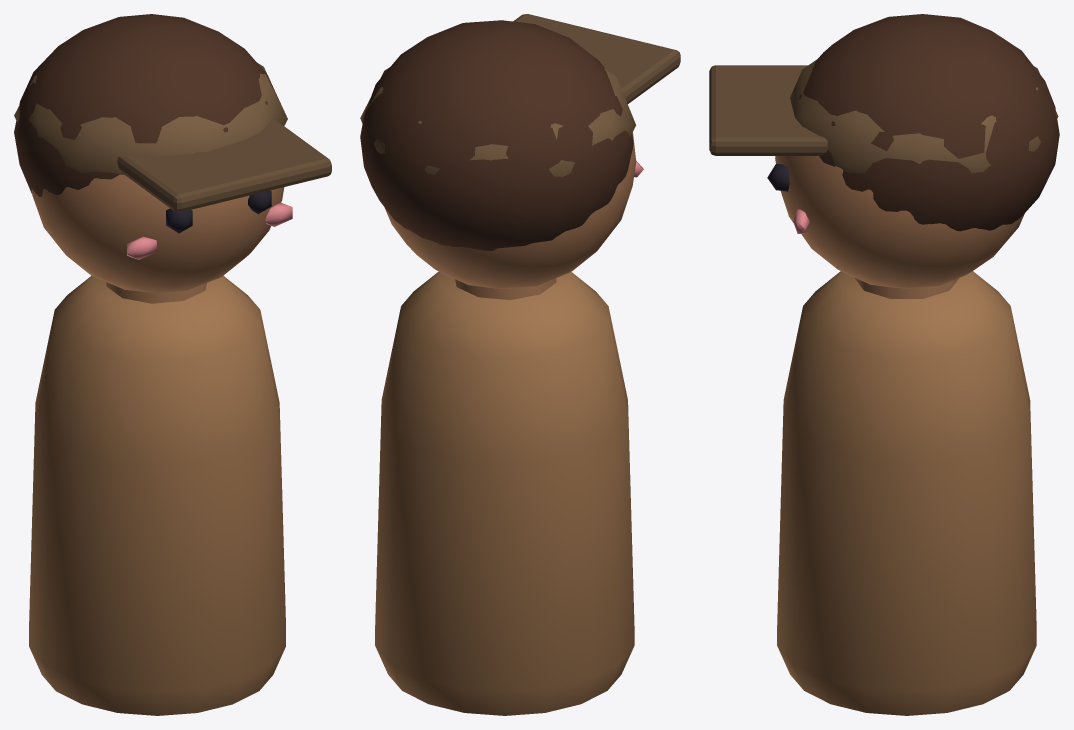
File: person_miller.fbx
3 renders of one model, left to right at view 1: azimuth 30°, elevation 25°; view 2: azimuth 150°, elevation 25°; view 3: azimuth 270°, elevation 25°, orthographic.
Parts seen in each view (by area): view 1: Body, Head; view 2: Body, Head; view 3: Body, Head.
Part boxes in pixels (x1,y1,x2,y2): Body: (29, 275, 285, 715); Head: (14, 14, 331, 292); Body: (375, 271, 634, 715); Head: (360, 14, 680, 288); Body: (777, 271, 1036, 715); Head: (709, 14, 1059, 288).
Bounding box in the file's own units: 0.208 × 0.5394 × 0.266.
